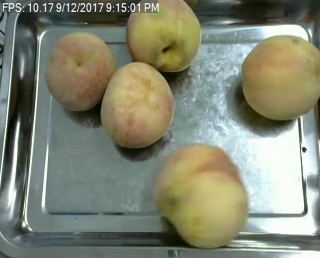Peach: (155, 141, 246, 249), (240, 33, 319, 120), (101, 61, 174, 149), (45, 30, 115, 112), (124, 0, 203, 72)
